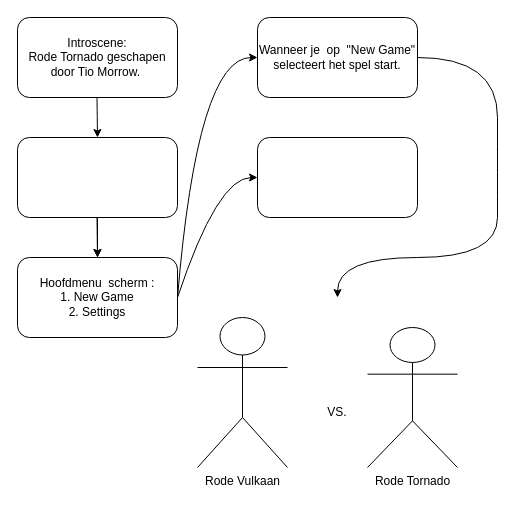
Image size: 515x506. Some labels were removed from this diagram. The centre of each missing label's shape, as x and y in pixels:
1. Beeldscherm 2. Geluid 3. Gameplay: pixel 337 177
Titelscherm "Druk op een toets om verder te gaan.": pixel 97 177
